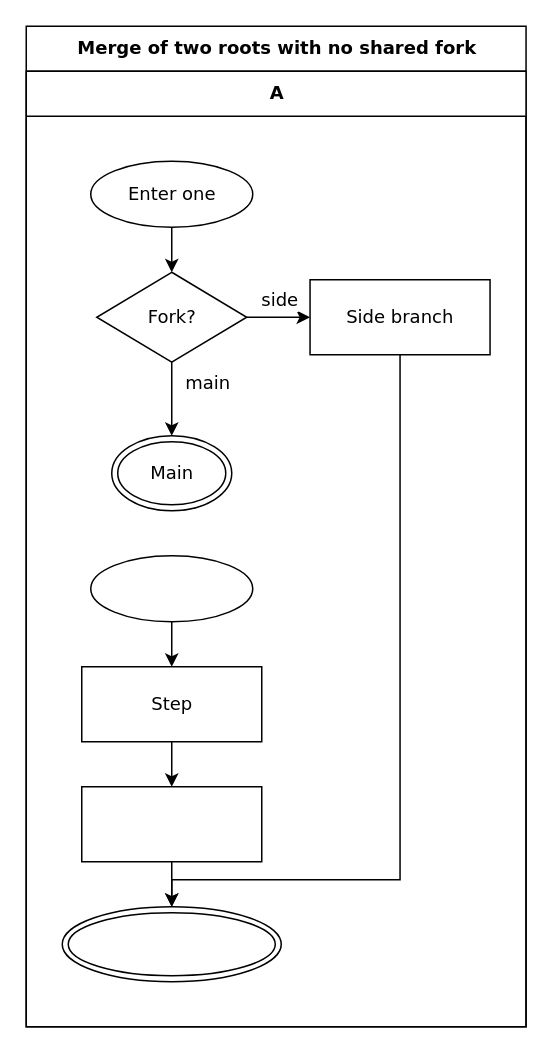
Some shapes in this 554 by 1053 pixel diagram are drawn without their labels. Here are the shapes that lost their labels. From the top down, the box of each, then its label:
(89, 554, 253, 622): Enter two
(80, 785, 262, 862): Deep step
(61, 905, 281, 982): Roots merge
